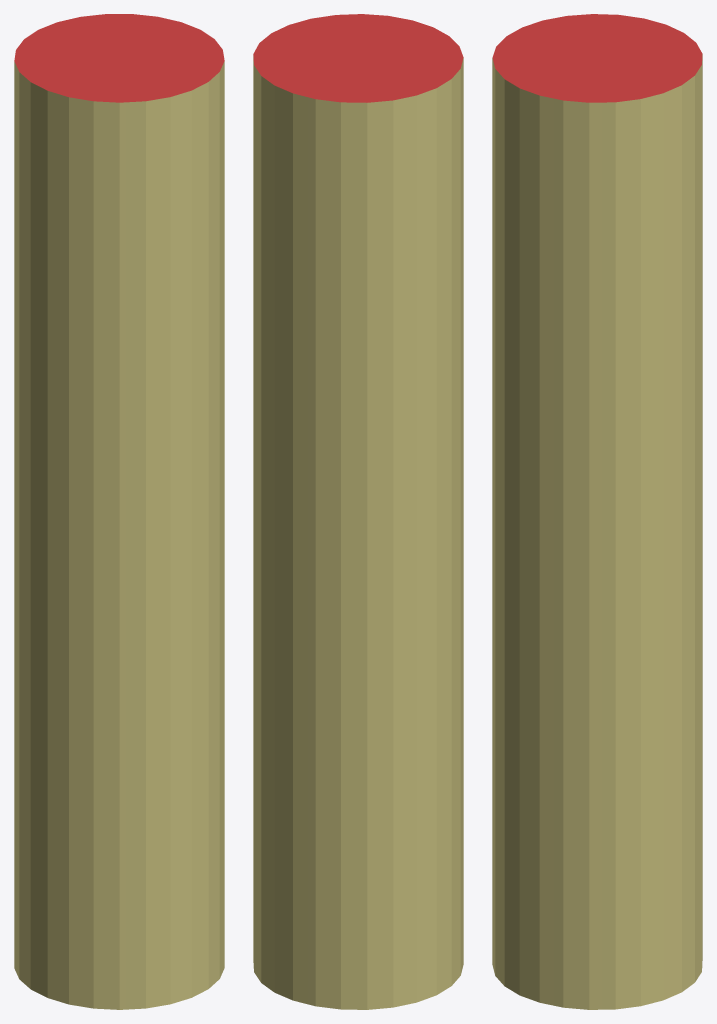
3 views of the same model, side by side, from view 1: azimuth 30°, elevation 25°; view 2: azimuth 150°, elevation 25°; view 3: azimuth 270°, elevation 25° (orthographic).
Size of the model in its own units: 2.11 by 2.11 by 10.06.
